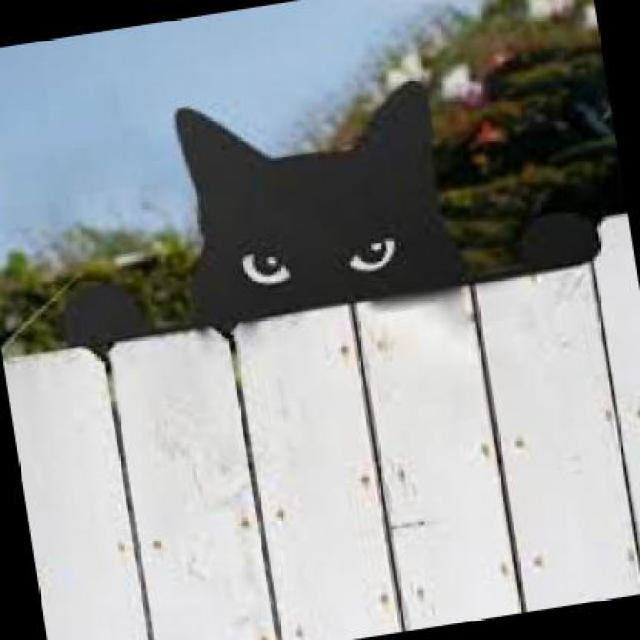animals: (130, 62, 498, 330)
